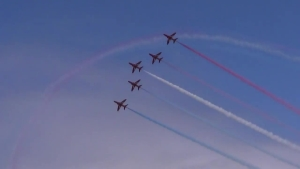flight: (162, 31, 179, 45), (114, 98, 129, 112), (148, 51, 164, 64), (128, 60, 144, 73), (127, 79, 143, 91)
